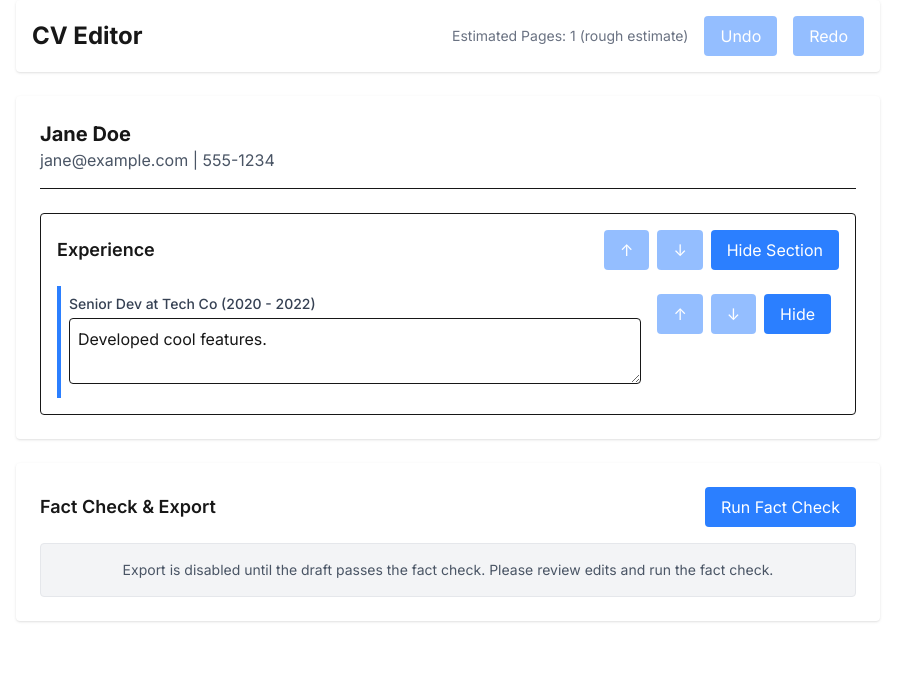
Test: CvEditor Component › runs fact check and enables export on success
The width and height of the screenshot is (897, 687).
Click the button "Run Fact Check": coordinates (780, 507) [705,487,856,527]
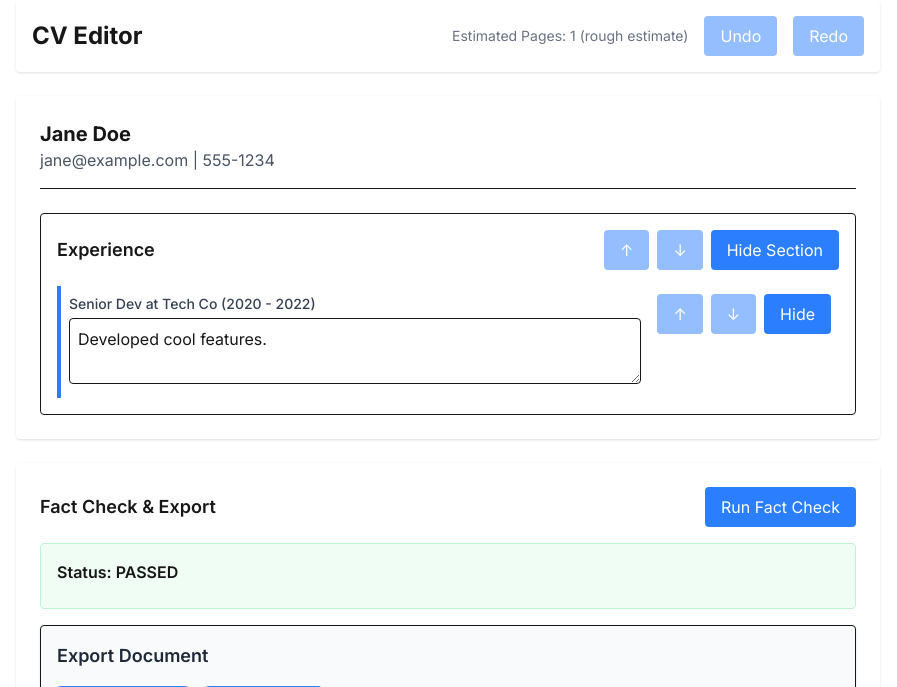
Expected: the heading "Status: PASSED" is shown, [57,562,178,582]
Expected: the heading "Export Document" is shown, [57,645,208,666]
